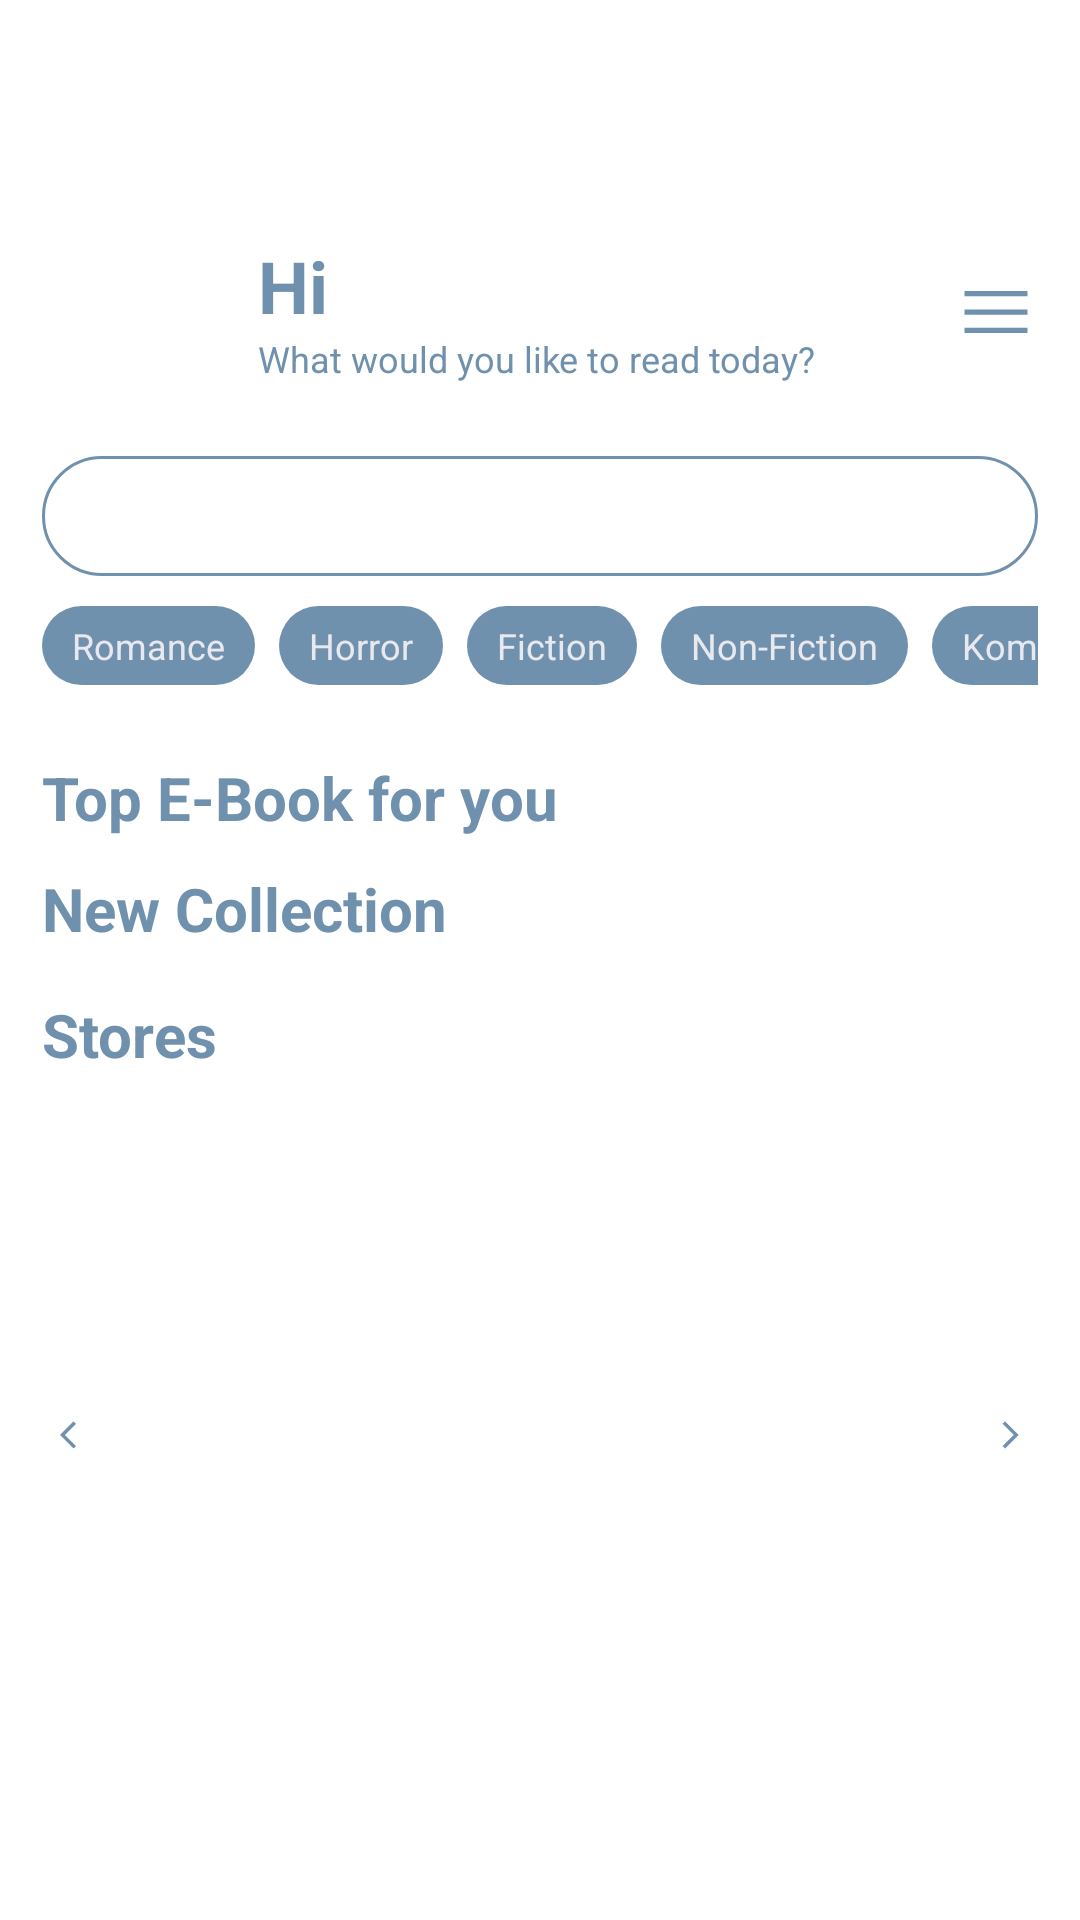

Icon click points for this 1080x1920 phone screenshot, format point (x, y):
iconleft: point (68, 1435)
iconright: point (1011, 1435)
menu: point (996, 312)
